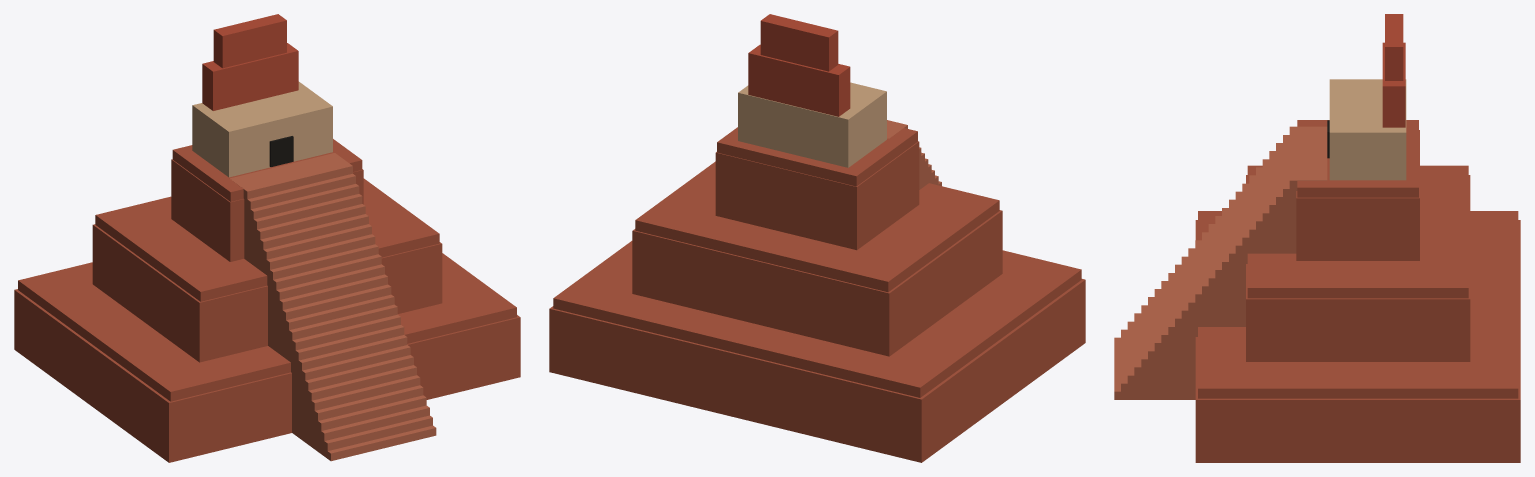
Rendered from meso-tikal-t2.glb.
3 renders of one model, left to right at view 1: azimuth 30°, elevation 25°; view 2: azimuth 150°, elevation 25°; view 3: azimuth 270°, elevation 25°, orthographic. The views are drawn at different scales.
Parts seen in each view (by area): view 1: meso-body, meso-stair, meso-shrine, meso-comb, meso-door; view 2: meso-body, meso-shrine, meso-comb, meso-stair; view 3: meso-body, meso-stair, meso-shrine, meso-comb.
Boxes of the visible parts, x1=… form: meso-body: x1=14, y1=139, x2=520, y2=462; meso-stair: x1=229, y1=153, x2=436, y2=461; meso-shrine: x1=192, y1=81, x2=332, y2=177; meso-comb: x1=202, y1=14, x2=298, y2=110; meso-door: x1=269, y1=136, x2=293, y2=166; meso-body: x1=549, y1=127, x2=1085, y2=462; meso-shrine: x1=738, y1=82, x2=886, y2=167; meso-comb: x1=748, y1=14, x2=850, y2=116; meso-stair: x1=887, y1=120, x2=941, y2=189; meso-body: x1=1195, y1=120, x2=1520, y2=462; meso-stair: x1=1114, y1=126, x2=1327, y2=399; meso-shrine: x1=1329, y1=79, x2=1406, y2=180; meso-comb: x1=1382, y1=14, x2=1405, y2=127.
Bounding box in the file's own units: 42.9 × 38 × 40.9.
